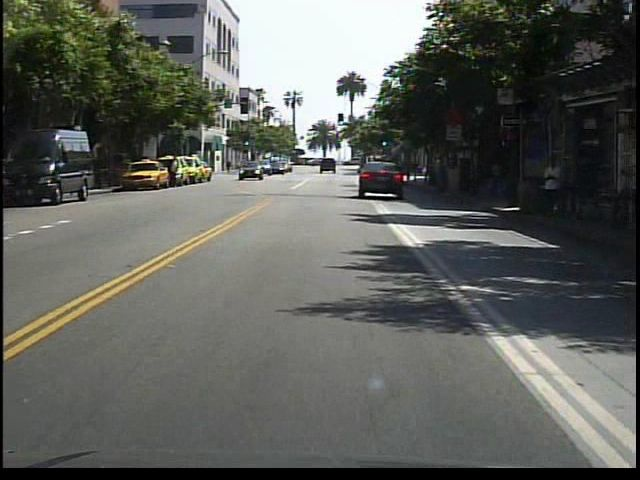person: (538, 149, 571, 225), (167, 155, 183, 191)
